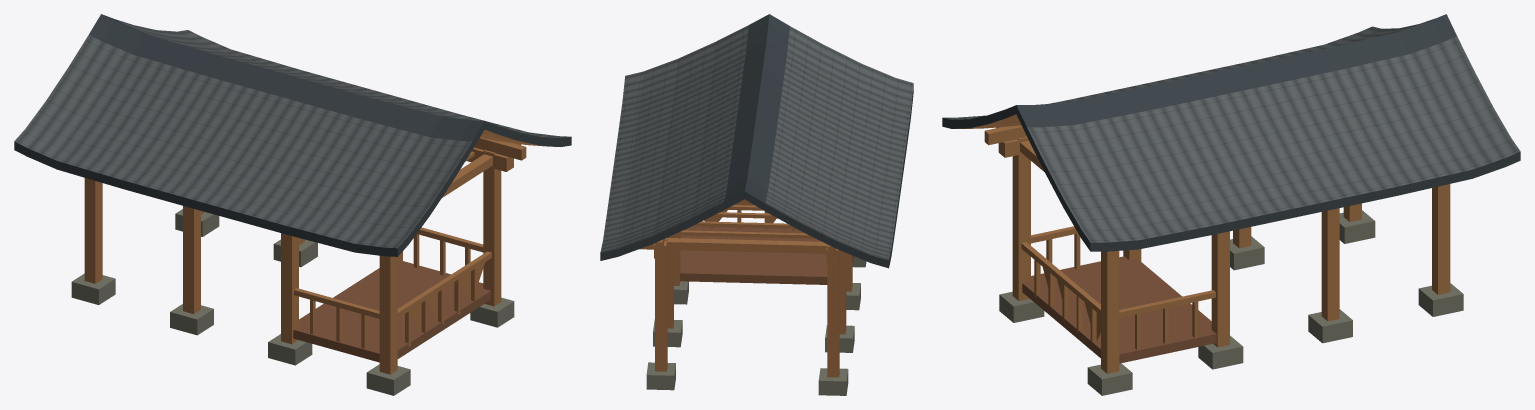
The model's file is fragments.glb.
3 renders of one model, left to right at view 1: azimuth 30°, elevation 25°; view 2: azimuth 150°, elevation 25°; view 3: azimuth 270°, elevation 25°, orthographic. The views are drawn at different scales.
Visible parts, largest first — view 1: SM_pavilion_Fragment_032, SM_pavilion_Fragment_001, SM_pavilion_Fragment_031, SM_pavilion_Fragment_014, SM_pavilion_Fragment_002, SM_pavilion_Fragment_012, SM_pavilion_Fragment_034, SM_pavilion_Fragment_000, SM_pavilion_Fragment_007, SM_pavilion_Fragment_022, SM_pavilion_Fragment_033, SM_pavilion_Fragment_004 (+15 smaller); view 2: SM_pavilion_Fragment_004, SM_pavilion_Fragment_014, SM_pavilion_Fragment_032, SM_pavilion_Fragment_031, SM_pavilion_Fragment_012, SM_pavilion_Fragment_060, SM_pavilion_Fragment_041, SM_pavilion_Fragment_001, SM_pavilion_Fragment_034, SM_pavilion_Fragment_002, SM_pavilion_Fragment_050, SM_pavilion_Fragment_023 (+23 smaller); view 3: SM_pavilion_Fragment_004, SM_pavilion_Fragment_022, SM_pavilion_Fragment_041, SM_pavilion_Fragment_050, SM_pavilion_Fragment_023, SM_pavilion_Fragment_060, SM_pavilion_Fragment_062, SM_pavilion_Fragment_007, SM_pavilion_Fragment_047, SM_pavilion_Fragment_048, SM_pavilion_Fragment_059, SM_pavilion_Fragment_053 (+16 smaller).
Boxes of the visible parts, box(x1,y1,x2,y2) form: SM_pavilion_Fragment_032: box(18, 58, 200, 187); SM_pavilion_Fragment_001: box(231, 156, 402, 277); SM_pavilion_Fragment_031: box(118, 59, 269, 190); SM_pavilion_Fragment_014: box(288, 88, 406, 196); SM_pavilion_Fragment_002: box(129, 131, 271, 219); SM_pavilion_Fragment_012: box(327, 161, 454, 260); SM_pavilion_Fragment_034: box(71, 14, 198, 101); SM_pavilion_Fragment_000: box(268, 276, 399, 395); SM_pavilion_Fragment_007: box(342, 259, 452, 392); SM_pavilion_Fragment_022: box(368, 227, 514, 324); SM_pavilion_Fragment_033: box(14, 63, 121, 151); SM_pavilion_Fragment_004: box(457, 127, 571, 205); SM_pavilion_Fragment_004: box(624, 29, 740, 97); SM_pavilion_Fragment_014: box(732, 57, 863, 134); SM_pavilion_Fragment_032: box(759, 156, 895, 282); SM_pavilion_Fragment_031: box(745, 132, 896, 226); SM_pavilion_Fragment_012: box(815, 42, 907, 119); SM_pavilion_Fragment_060: box(645, 187, 730, 290); SM_pavilion_Fragment_041: box(674, 97, 795, 165); SM_pavilion_Fragment_001: box(835, 81, 913, 174); SM_pavilion_Fragment_034: box(708, 156, 813, 227); SM_pavilion_Fragment_002: box(818, 140, 902, 221); SM_pavilion_Fragment_050: box(688, 126, 781, 188); SM_pavilion_Fragment_023: box(619, 87, 818, 152); SM_pavilion_Fragment_004: box(1031, 113, 1176, 267); SM_pavilion_Fragment_022: box(1094, 261, 1227, 395); SM_pavilion_Fragment_041: box(1194, 60, 1309, 147); SM_pavilion_Fragment_050: box(1269, 42, 1405, 112); SM_pavilion_Fragment_023: box(1107, 76, 1197, 251); SM_pavilion_Fragment_060: box(1381, 50, 1497, 126); SM_pavilion_Fragment_062: box(1395, 115, 1520, 204); SM_pavilion_Fragment_007: box(1002, 177, 1098, 326); SM_pavilion_Fragment_047: box(1185, 146, 1270, 249); SM_pavilion_Fragment_048: box(1231, 143, 1342, 222); SM_pavilion_Fragment_059: box(1336, 102, 1426, 207); SM_pavilion_Fragment_053: box(1294, 109, 1376, 224).
Size of the model in its own units: 1.95 by 1.08 by 2.2.
Materials: 6 (1 with a texture image).
